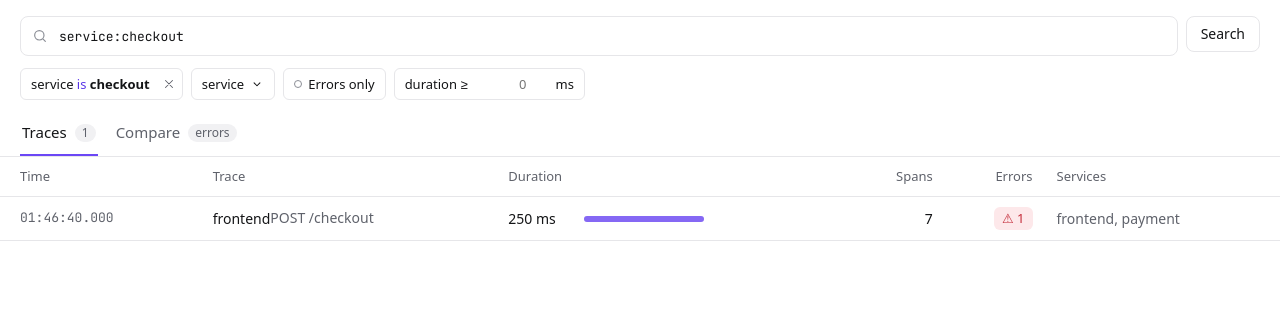
Scenario: the Compare tab explains what failing traces have in common
Click the button with class "tab" showing "Compare errors": (176, 134) [114,112,239,156]
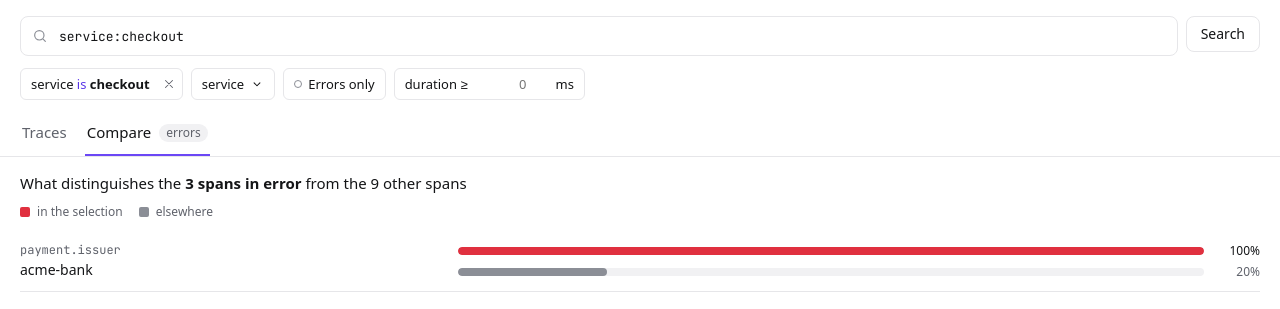
Check: the element with class "compare" shows "acme-bank", box [17,260,439,280]
